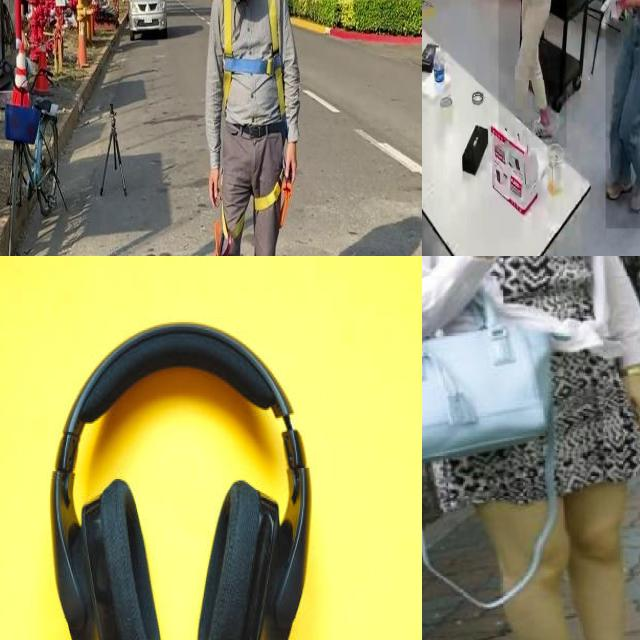Ear-protection: (36, 313, 320, 640)
Harness: (223, 0, 286, 116), (213, 179, 291, 256)
hand_noglove: (617, 0, 634, 11)
person: (498, 0, 567, 148), (605, 0, 640, 229)
shoes: (602, 169, 634, 206)
